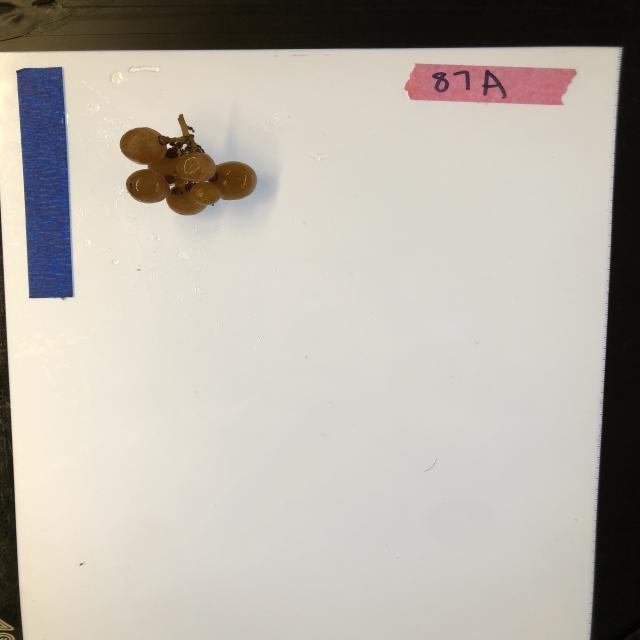grape_cluster: (121, 111, 260, 215)
index: (404, 61, 578, 105)
measure_label: (17, 65, 76, 298)
